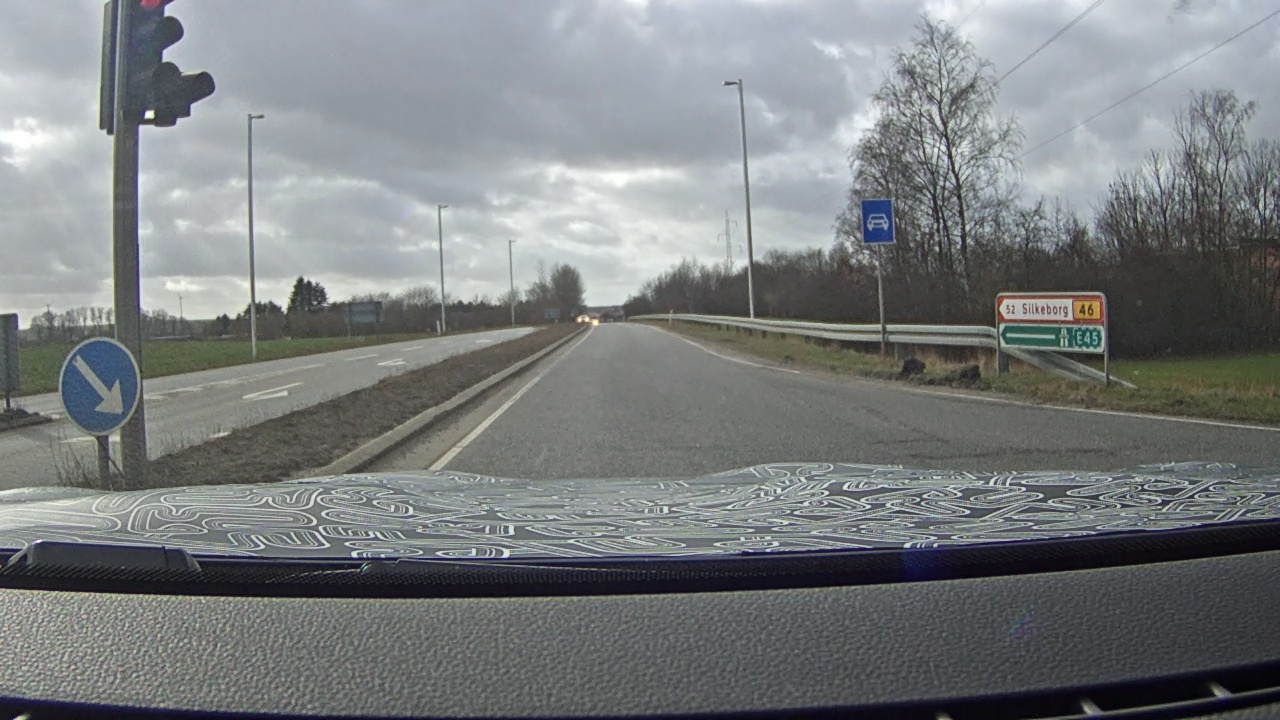Expressway_Begin: (860, 198, 895, 246)
